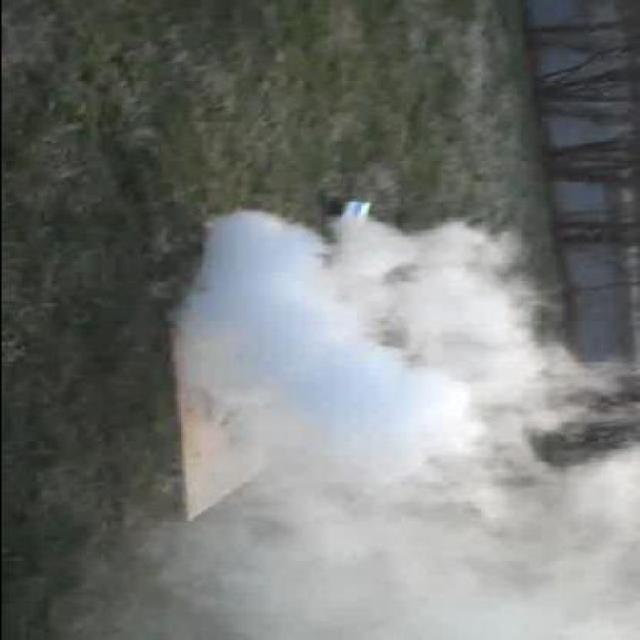Smoke: (179, 213, 640, 640)
